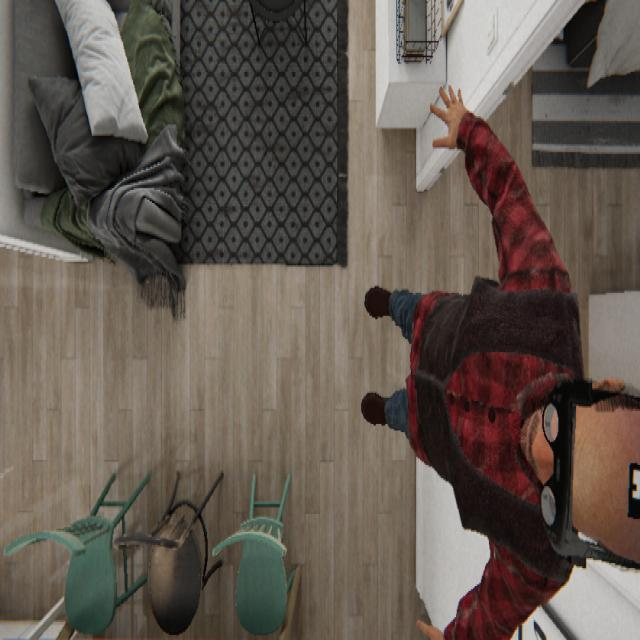Human: (360, 82, 638, 637)
